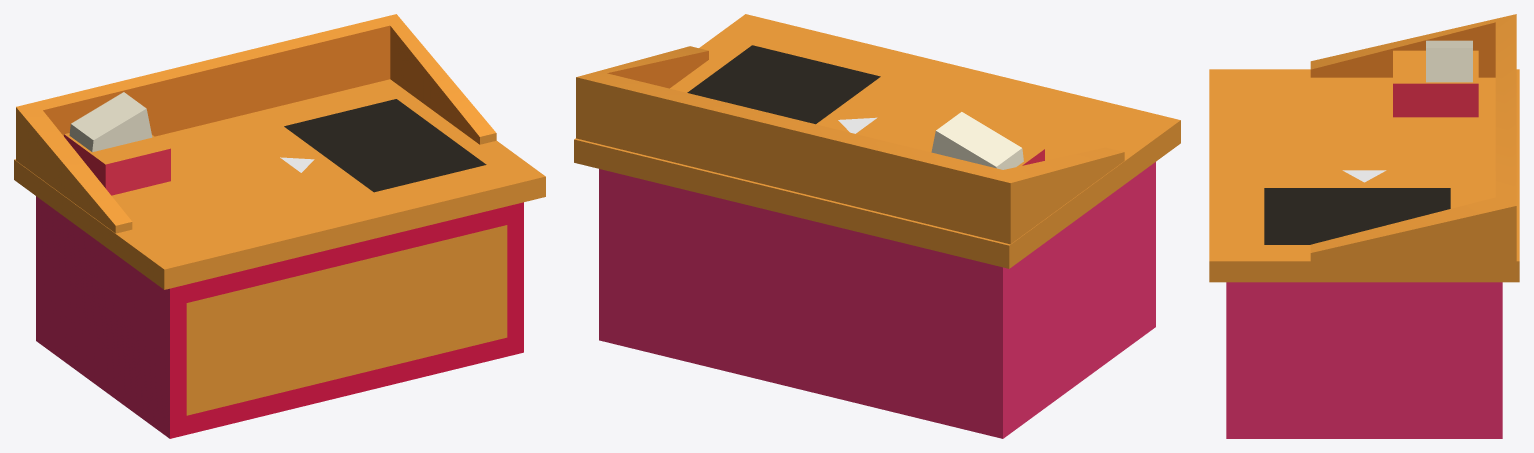
Rendered from Dumpster.fbx.
3 views of the same model, side by side, from view 1: azimuth 30°, elevation 25°; view 2: azimuth 150°, elevation 25°; view 3: azimuth 270°, elevation 25° (orthographic). The views are drawn at different scales.
Visible parts, largest first — view 1: Dumpster; view 2: Dumpster; view 3: Dumpster.
Part boxes in pixels (x1=…): Dumpster: x1=14, y1=14, x2=545, y2=438; Dumpster: x1=574, y1=14, x2=1180, y2=438; Dumpster: x1=1209, y1=14, x2=1519, y2=438.
Size of the model in its own units: 96.69 by 58.56 by 65.98.
